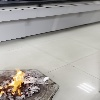fire: (0, 67, 25, 96)
